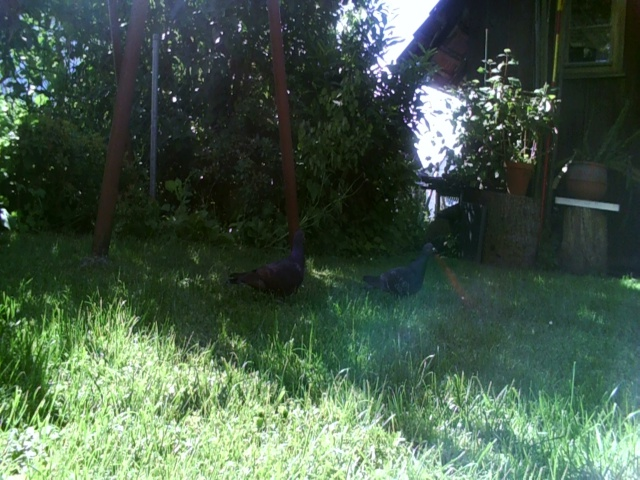Pigeon: (225, 232, 315, 300), (351, 243, 447, 305)
